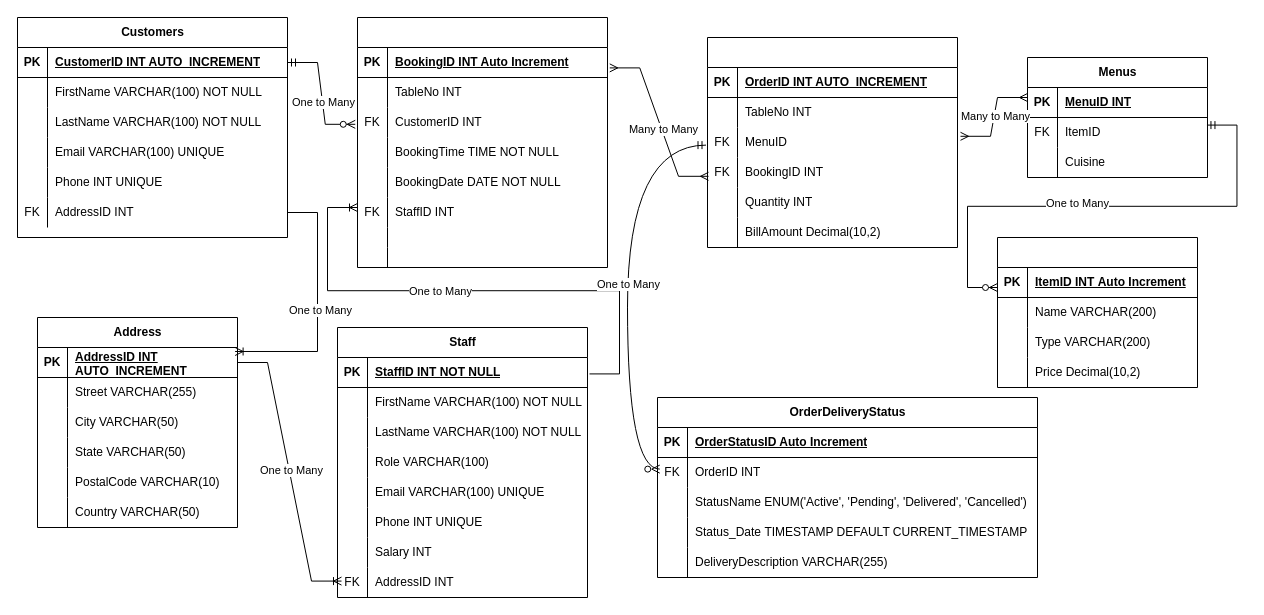
This 1264x615 diagram has some shape labels left out. Here are the shapes that lost their labels. From the top down, the box of each, then its label:
(356, 16, 608, 268): Bookings
(706, 36, 958, 248): Orders
(996, 236, 1198, 388): MenuItems
